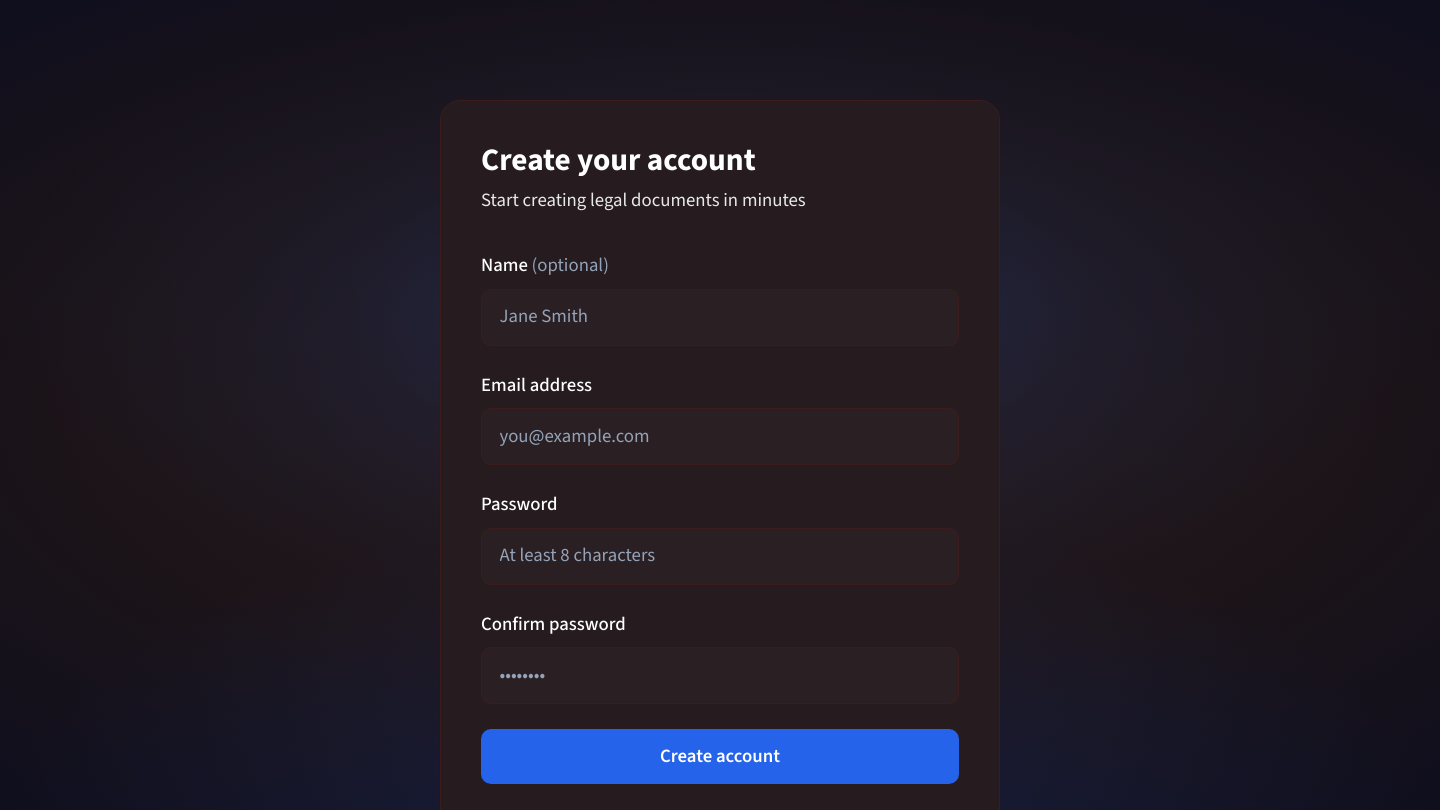
Test: Register page › shows error from server on registration failure
The image size is (1440, 810).
Type "existing@example.com" into the field labelled "Email address". click: [720, 436]
box: [481,408,959,465]
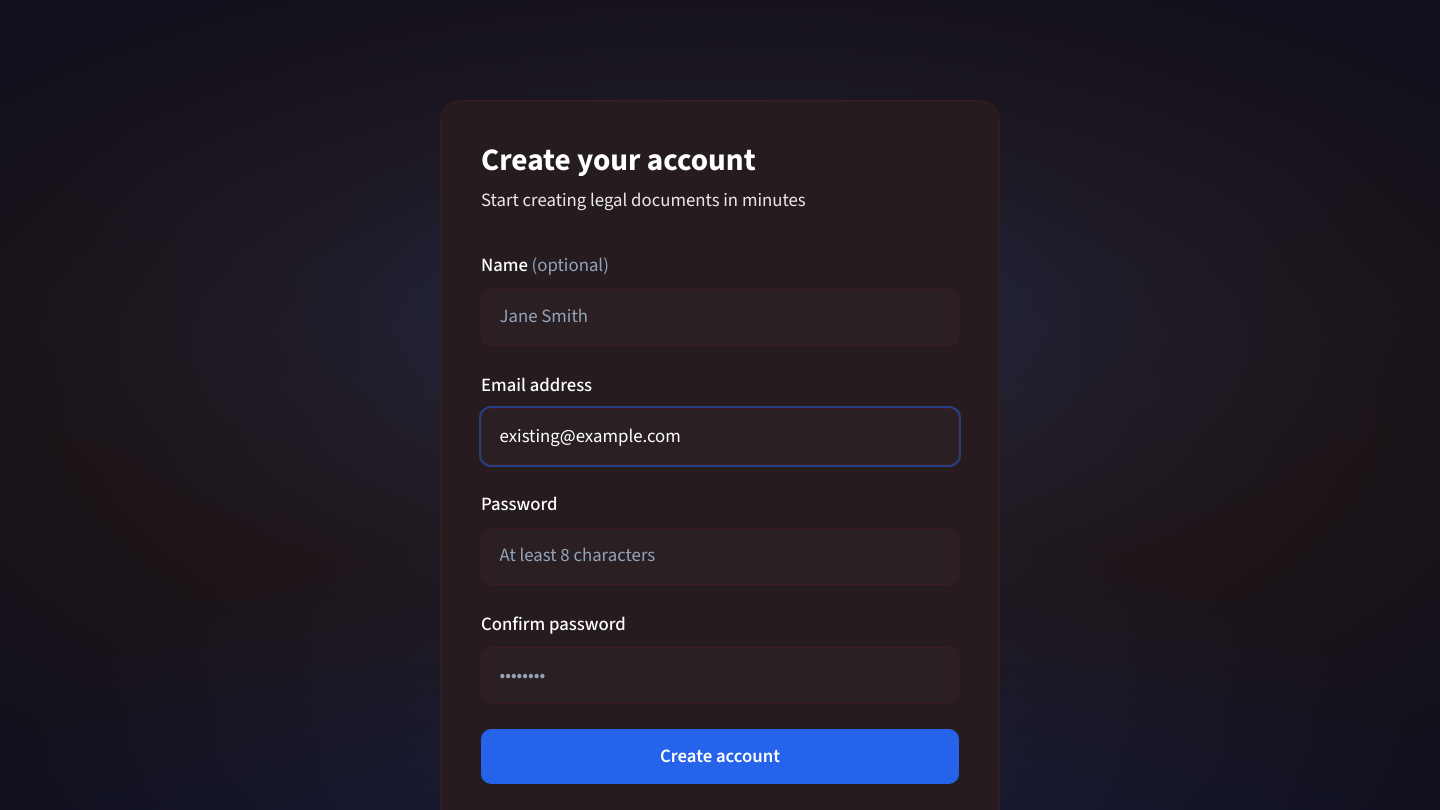
Type "password123" into the password field labelled "Password". click: [720, 556]
box: [481,528,959,584]
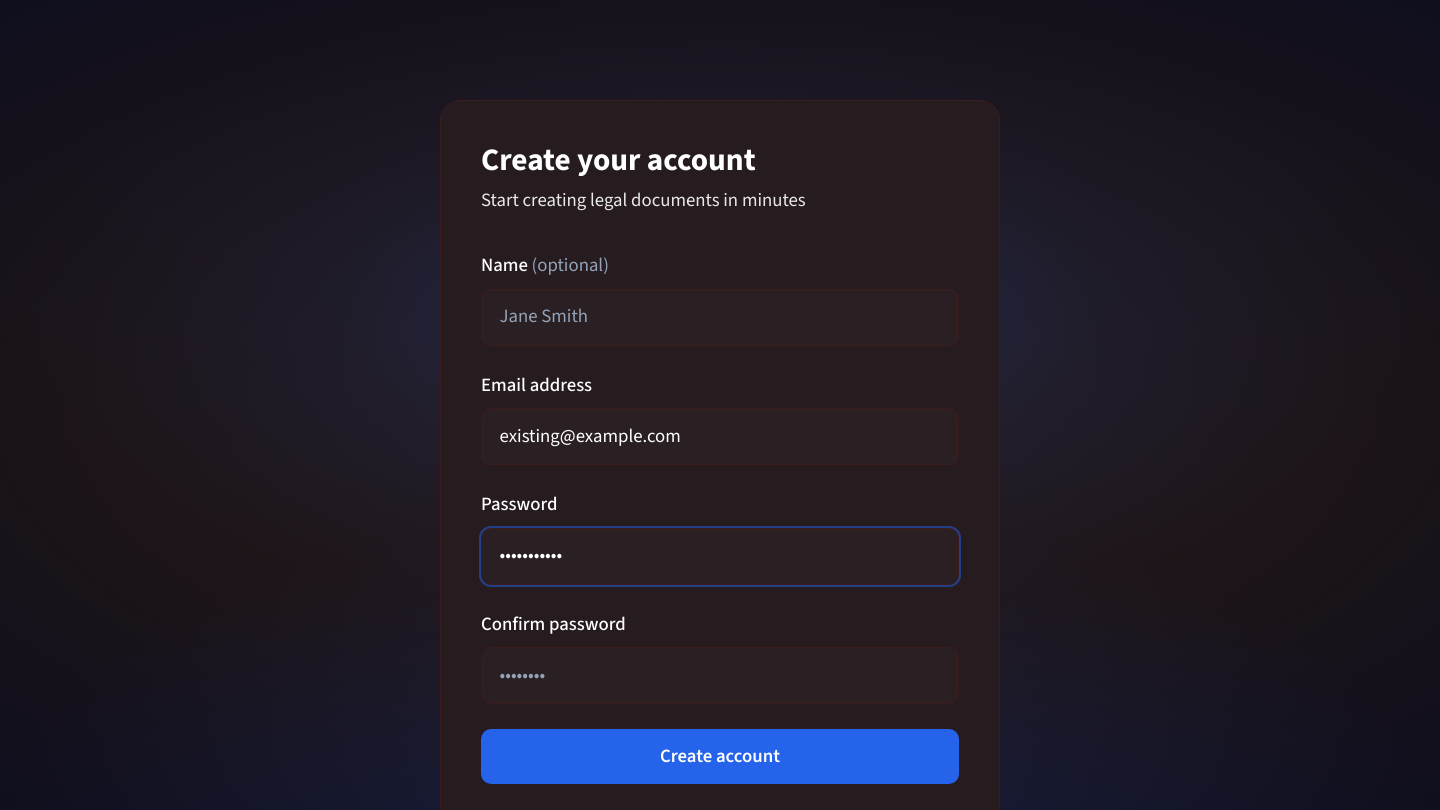
Type "password123" into the password field labelled "Confirm password". click: [720, 676]
box: [481,647,959,704]
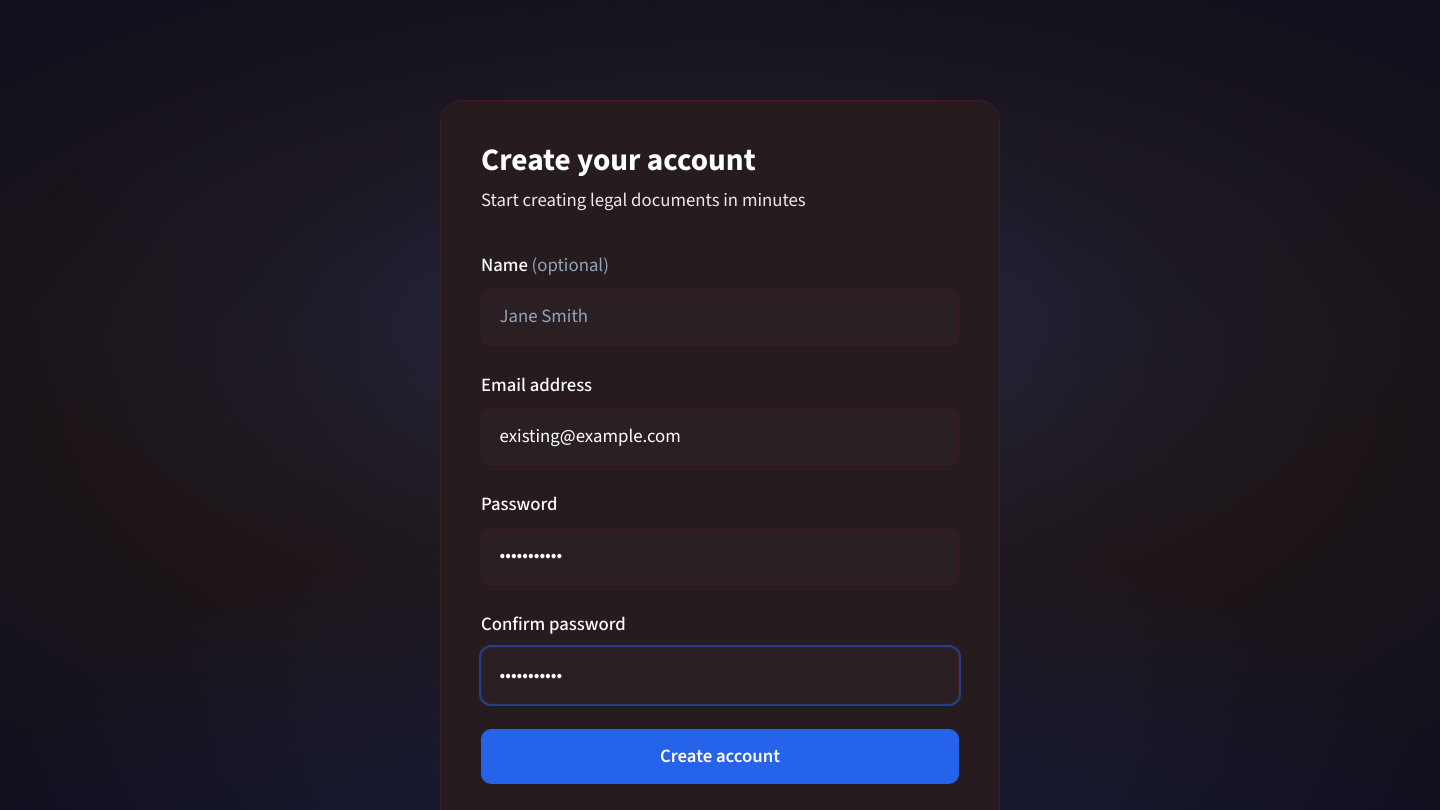
Click the button "Create account". click: [720, 756]
box: [481,729,959,784]
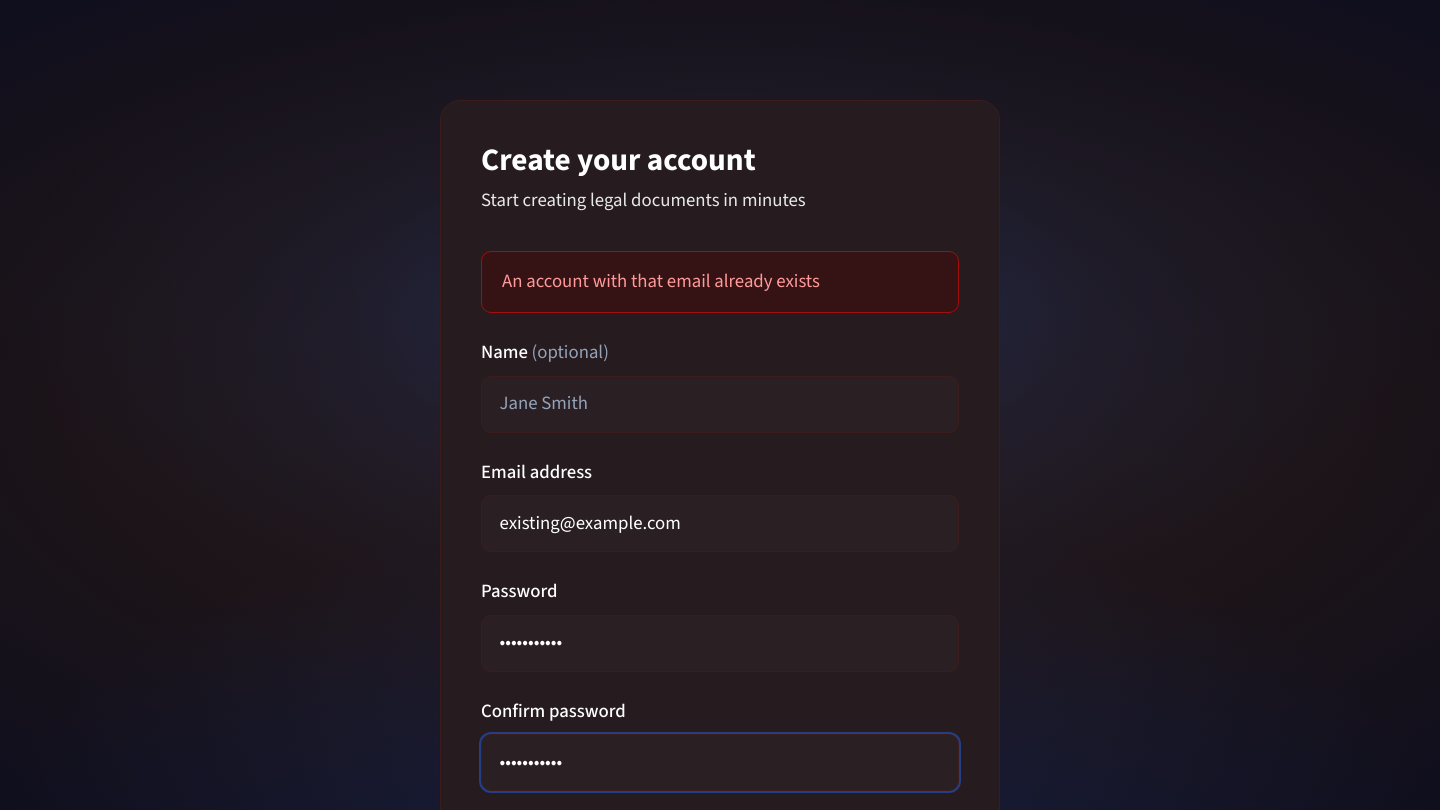
Expected: the text "An account with that email already exists" is shown, [481,251,959,313]
